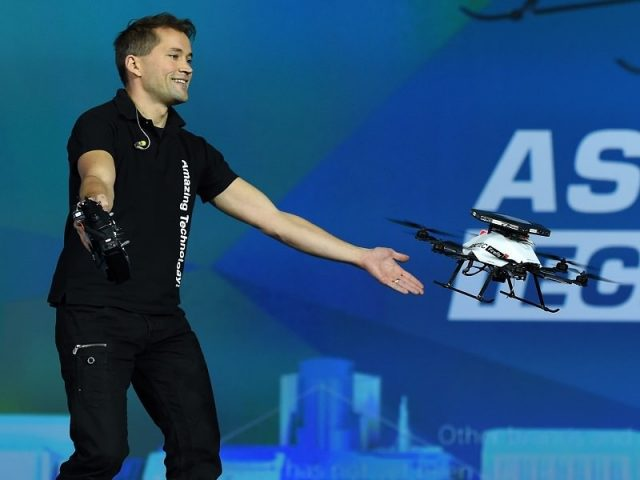drone: (384, 206, 627, 317)
person: (50, 11, 426, 480)
